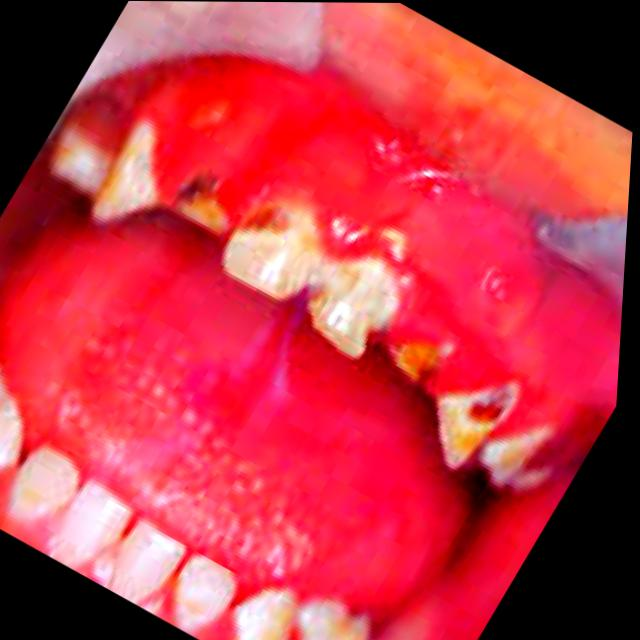cariess: (223, 202, 398, 356), (435, 381, 515, 466), (176, 177, 226, 233), (389, 342, 439, 380)
